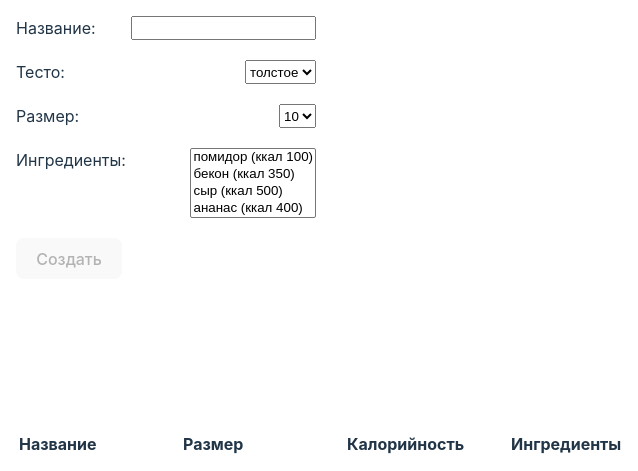
MainPageContainer › Проверяем, что состояние кнопки меняется при вводе корректного названия
Expected: the button with test id "CreateButton" is disabled, 16,238 -> 122,279
In the field with test id "NameInput": (224, 28) 131,16 -> 316,40, type "супер пицца"
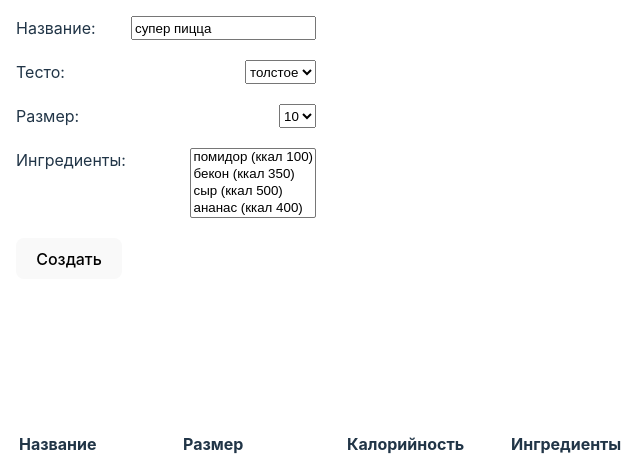
Result: the button with test id "CreateButton" is enabled at 16,238 -> 122,279
